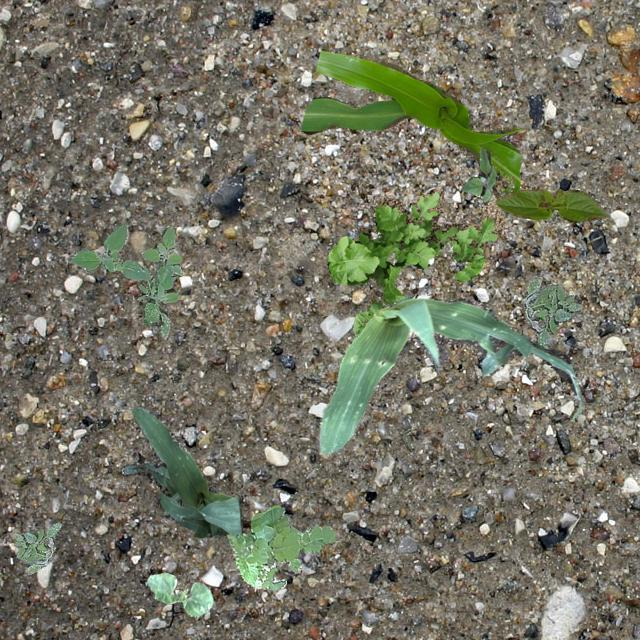crop: (316, 294, 586, 454), (300, 48, 520, 198), (121, 406, 242, 536), (494, 186, 606, 222), (146, 572, 212, 616)
weed: (326, 186, 504, 336), (68, 222, 182, 338), (226, 504, 334, 588), (522, 274, 582, 346), (12, 522, 60, 572), (460, 147, 496, 200)
